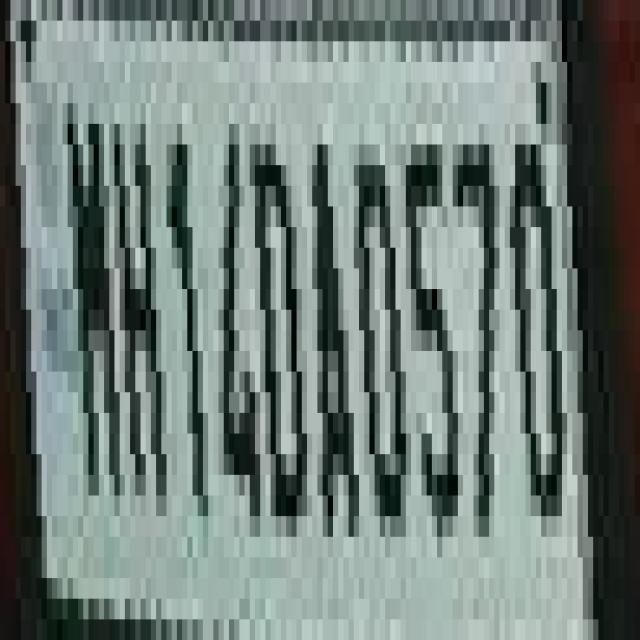license_plate: (0, 21, 630, 619)
